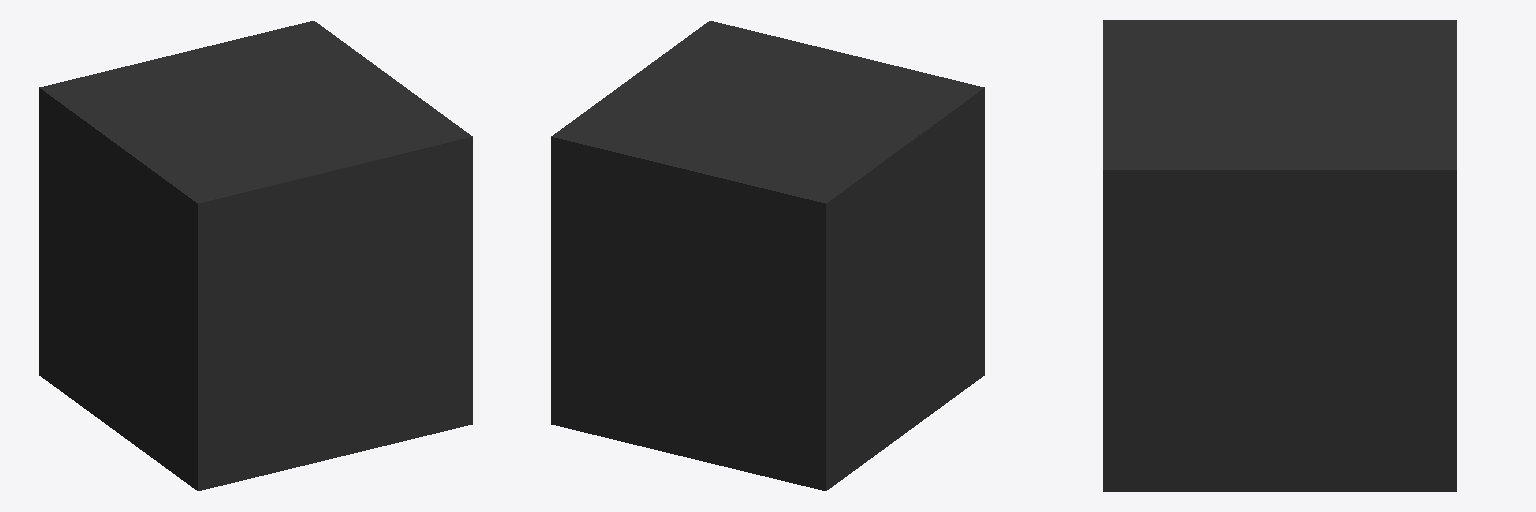
robot.urdf — cube:
<?xml version="1.0"?>
<robot name="cube">
  <link name="cube_link">
    <visual>
      <origin xyz="0 0 0" rpy="0 0 0"/>
      <geometry>
        <box size="0.02 0.02 0.02"/>
      </geometry>
      <material name="dark_grey">
        <color rgba="0.25 0.25 0.25 1.0"/>
      </material>
    </visual>
    <collision>
      <origin xyz="0 0 0" rpy="0 0 0"/>
      <geometry>
        <box size="0.02 0.02 0.02"/>
      </geometry>
    </collision>
    <inertial>
      <origin xyz="0 0 0" rpy="0 0 0"/>
      <mass value="2e-3"/>
      <inertia ixx="2e-7" ixy="0.0" ixz="0.0" iyy="2e-7" iyz="0.0" izz="2e-7"/>
    </inertial>
  </link>
</robot>

--- Render facts (derived) ---
The picture shows the robot from 3 angles, left to right: view 1: azimuth 30°, elevation 25°; view 2: azimuth 150°, elevation 25°; view 3: azimuth 270°, elevation 25°; orthographic projection.
Model cube with 1 links and 0 joints (none), rooted at cube_link, posed all joints at 0.
Visible links, largest first — view 1: cube_link; view 2: cube_link; view 3: cube_link.
Link boxes in pixels (x1=…): cube_link: x1=39, y1=21, x2=472, y2=490; cube_link: x1=551, y1=21, x2=984, y2=490; cube_link: x1=1103, y1=20, x2=1456, y2=491.
Bounding box of the posed robot: 0.02 × 0.02 × 0.02 m (x, y, z).
Geometry: primitives only (box / cylinder / sphere), no mesh files.
